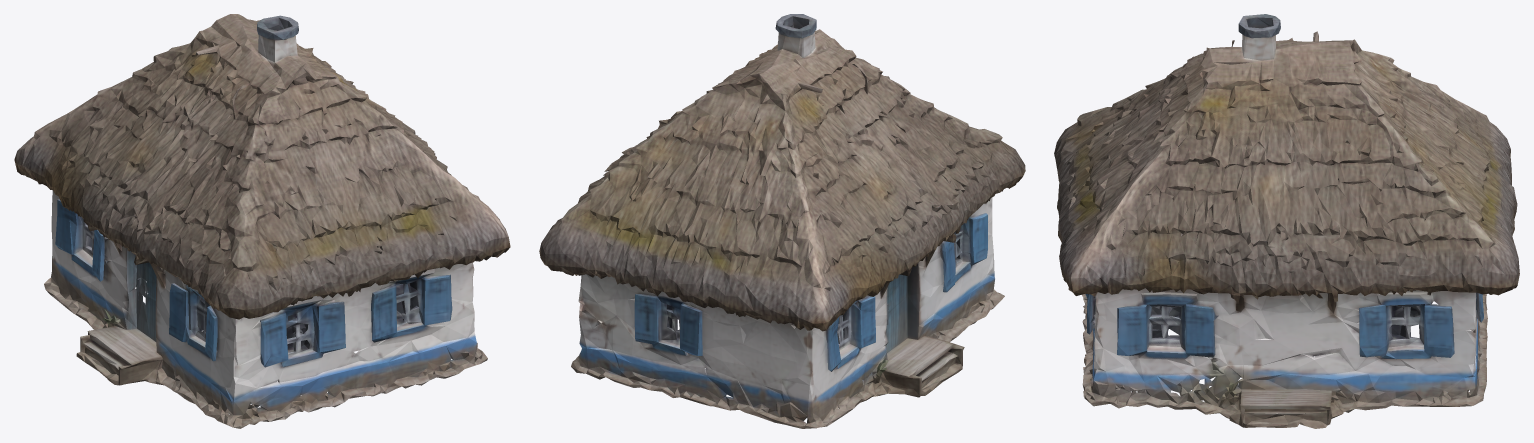
File: k_khata.obj
3 renders of one model, left to right at view 1: azimuth 30°, elevation 25°; view 2: azimuth 150°, elevation 25°; view 3: azimuth 270°, elevation 25°, orthographic. The views are drawn at different scales.
Visible parts, largest first — view 1: k_khata; view 2: k_khata; view 3: k_khata.
Boxes of the visible parts, bbox=[...] form: k_khata: bbox=[14, 14, 510, 428]; k_khata: bbox=[539, 14, 1025, 428]; k_khata: bbox=[1054, 14, 1519, 428].
Size of the model in its own units: 7.62 by 7.05 by 9.
1 material, 1 textured.
